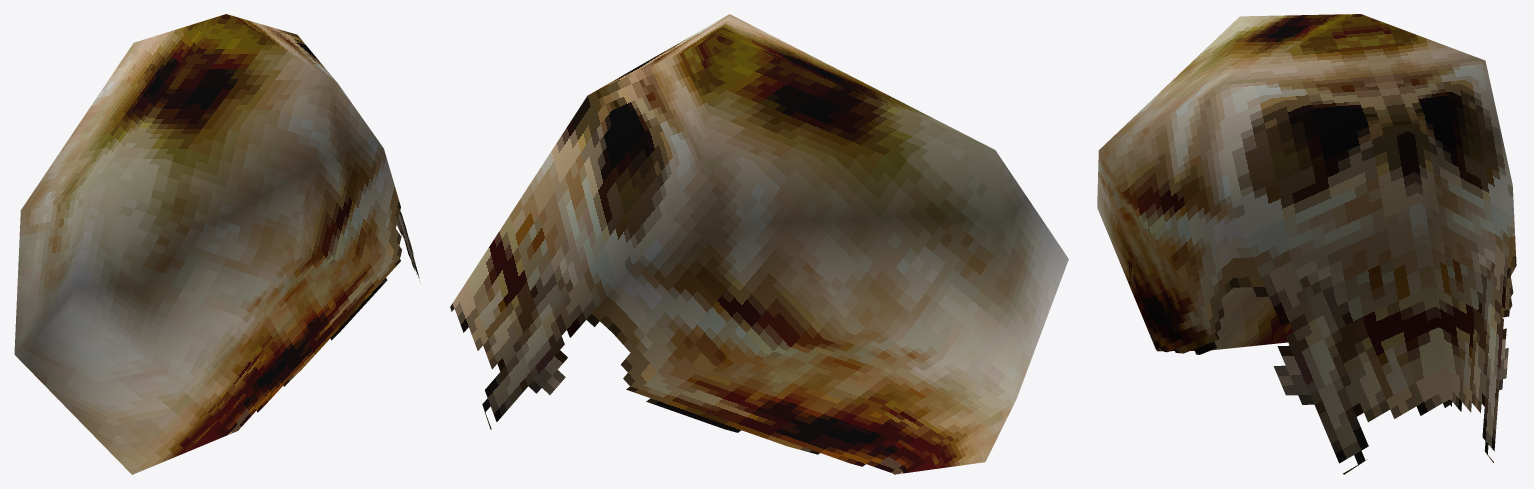
Rendered from blastedlandsskull01.obj.
3 views of the same model, side by side, from view 1: azimuth 30°, elevation 25°; view 2: azimuth 150°, elevation 25°; view 3: azimuth 270°, elevation 25° (orthographic). The views are drawn at different scales.
Parts seen in each view (by area): view 1: blastedlandsskull01.m2; view 2: blastedlandsskull01.m2; view 3: blastedlandsskull01.m2.
Part boxes in pixels (x1,y1,x2,y2): blastedlandsskull01.m2: (14, 14, 419, 474); blastedlandsskull01.m2: (450, 14, 1068, 474); blastedlandsskull01.m2: (1097, 14, 1516, 474).
Bounding box in the file's own units: 0.4813 × 0.4053 × 0.3642.
1 material, 1 textured.
